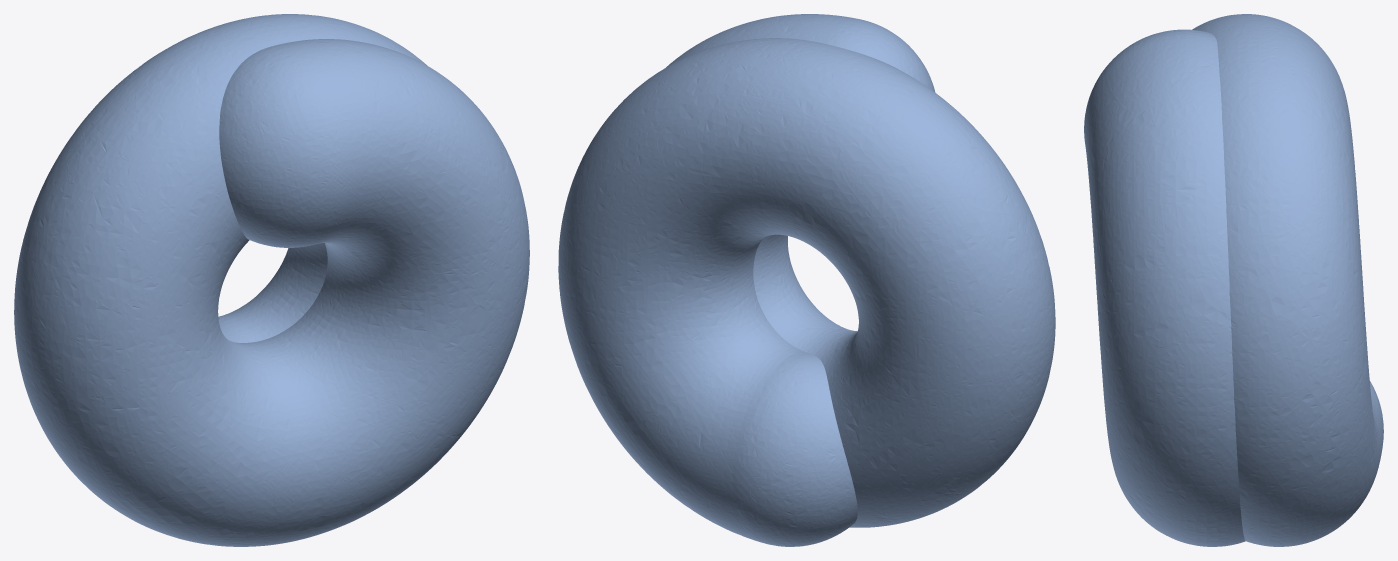
Rendered from rotatingSpherewLift_col.obj.
3 views of the same model, side by side, from view 1: azimuth 30°, elevation 25°; view 2: azimuth 150°, elevation 25°; view 3: azimuth 270°, elevation 25° (orthographic). The views are drawn at different scales.
Bounding box in the file's own units: 0.8 × 0.8 × 0.45.
